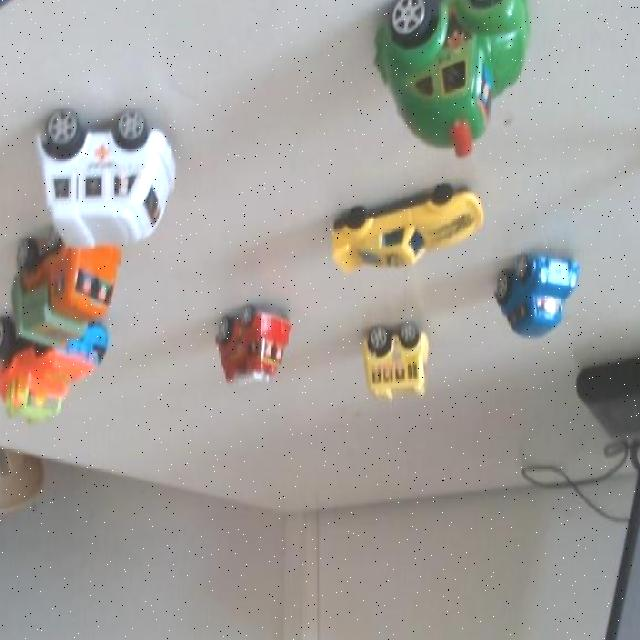car: (49, 81, 204, 272), (403, 0, 542, 145), (345, 165, 479, 286), (25, 312, 119, 431), (42, 225, 118, 356), (214, 284, 296, 402), (354, 304, 446, 409), (507, 245, 582, 344)
